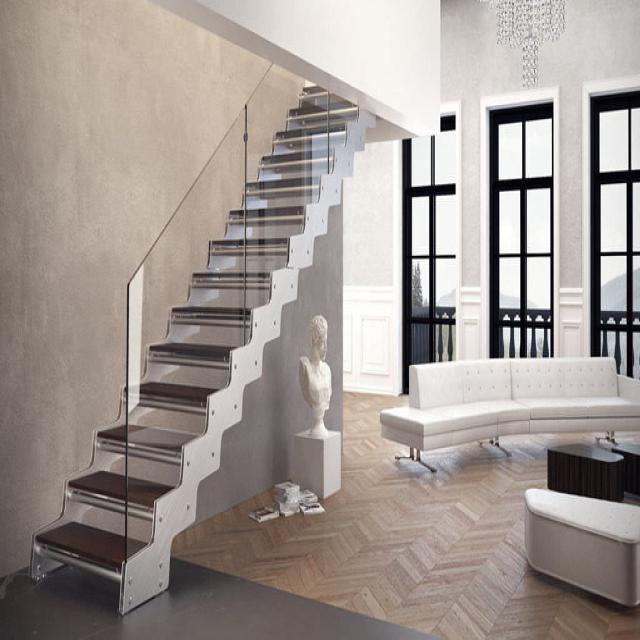stairs: (28, 78, 361, 614)
